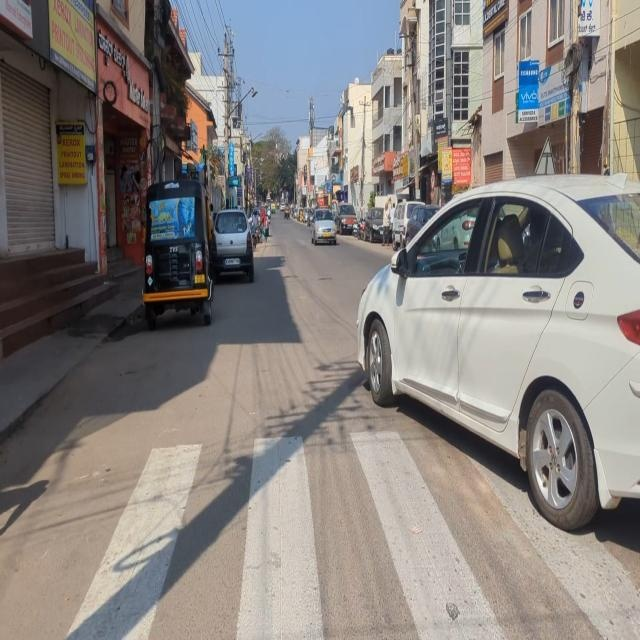bien_nguy_hiem: (430, 167, 436, 192)
